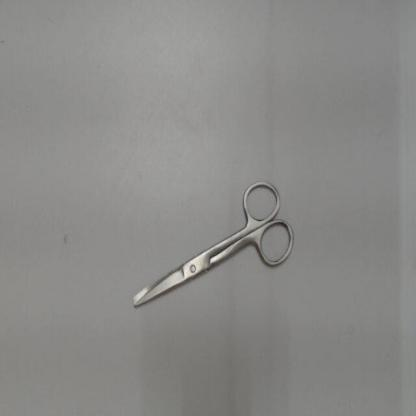Dressing Scissors: (119, 172, 302, 322)
